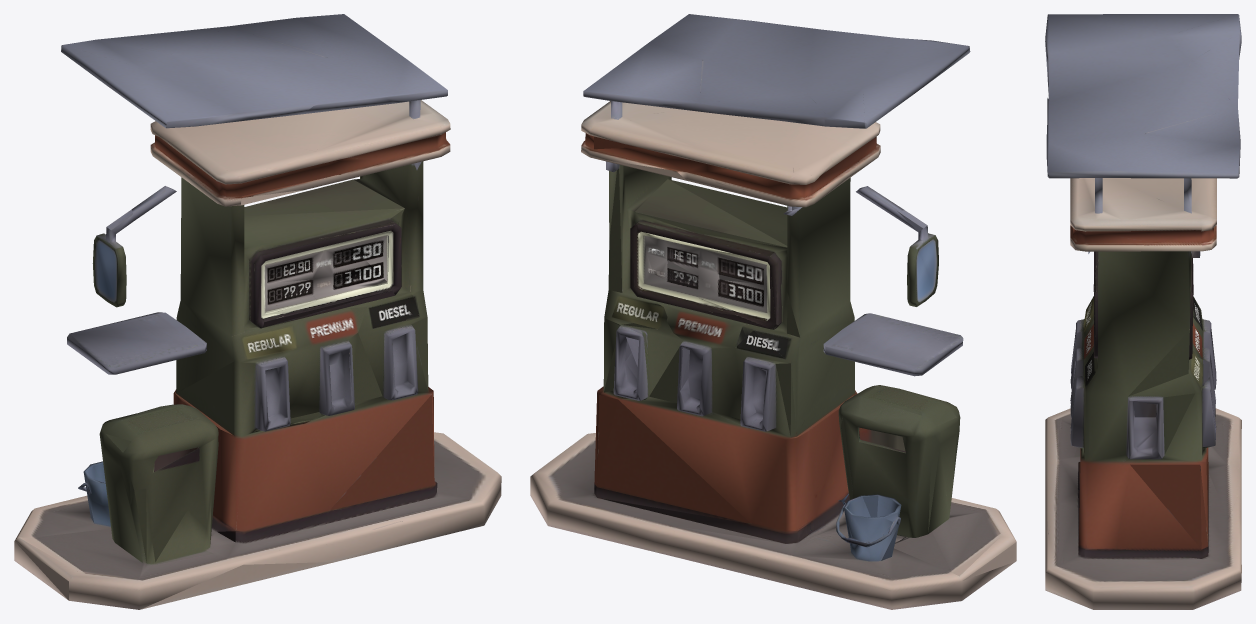
Rendered from Meshy_AI_Vintage_Gas_Pump_Stat_0901145740_texture.fbx.
3 views of the same model, side by side, from view 1: azimuth 30°, elevation 25°; view 2: azimuth 150°, elevation 25°; view 3: azimuth 270°, elevation 25° (orthographic). The views are drawn at different scales.
Visible parts, largest first — view 1: mesh_node; view 2: mesh_node; view 3: mesh_node.
Boxes of the visible parts, x1=… form: mesh_node: x1=14, y1=14, x2=501, y2=609; mesh_node: x1=530, y1=14, x2=1016, y2=609; mesh_node: x1=1045, y1=14, x2=1241, y2=609.
Size of the model in its own units: 179 by 190 by 77.66.
1 material, 1 textured.
